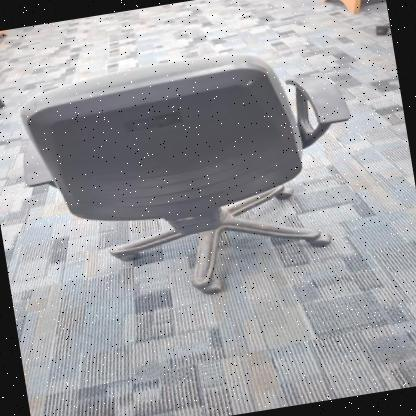chair: (0, 21, 382, 328)
